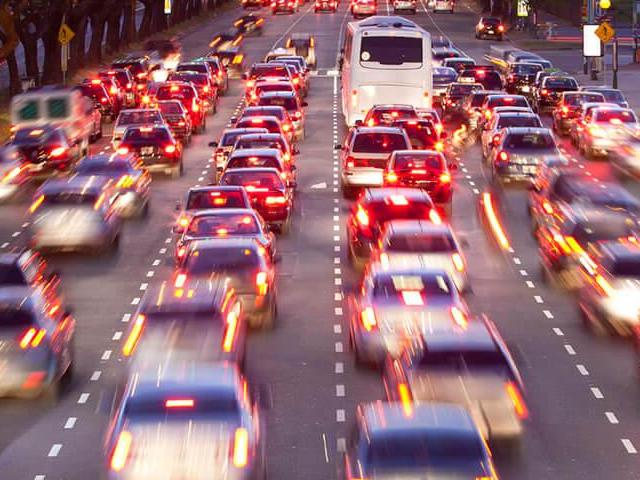bus: (334, 5, 436, 129)
